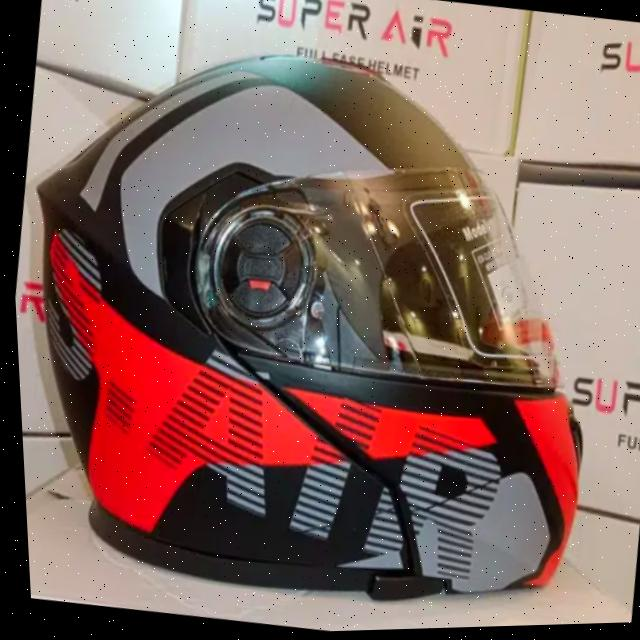Helmet: (0, 0, 640, 630)
